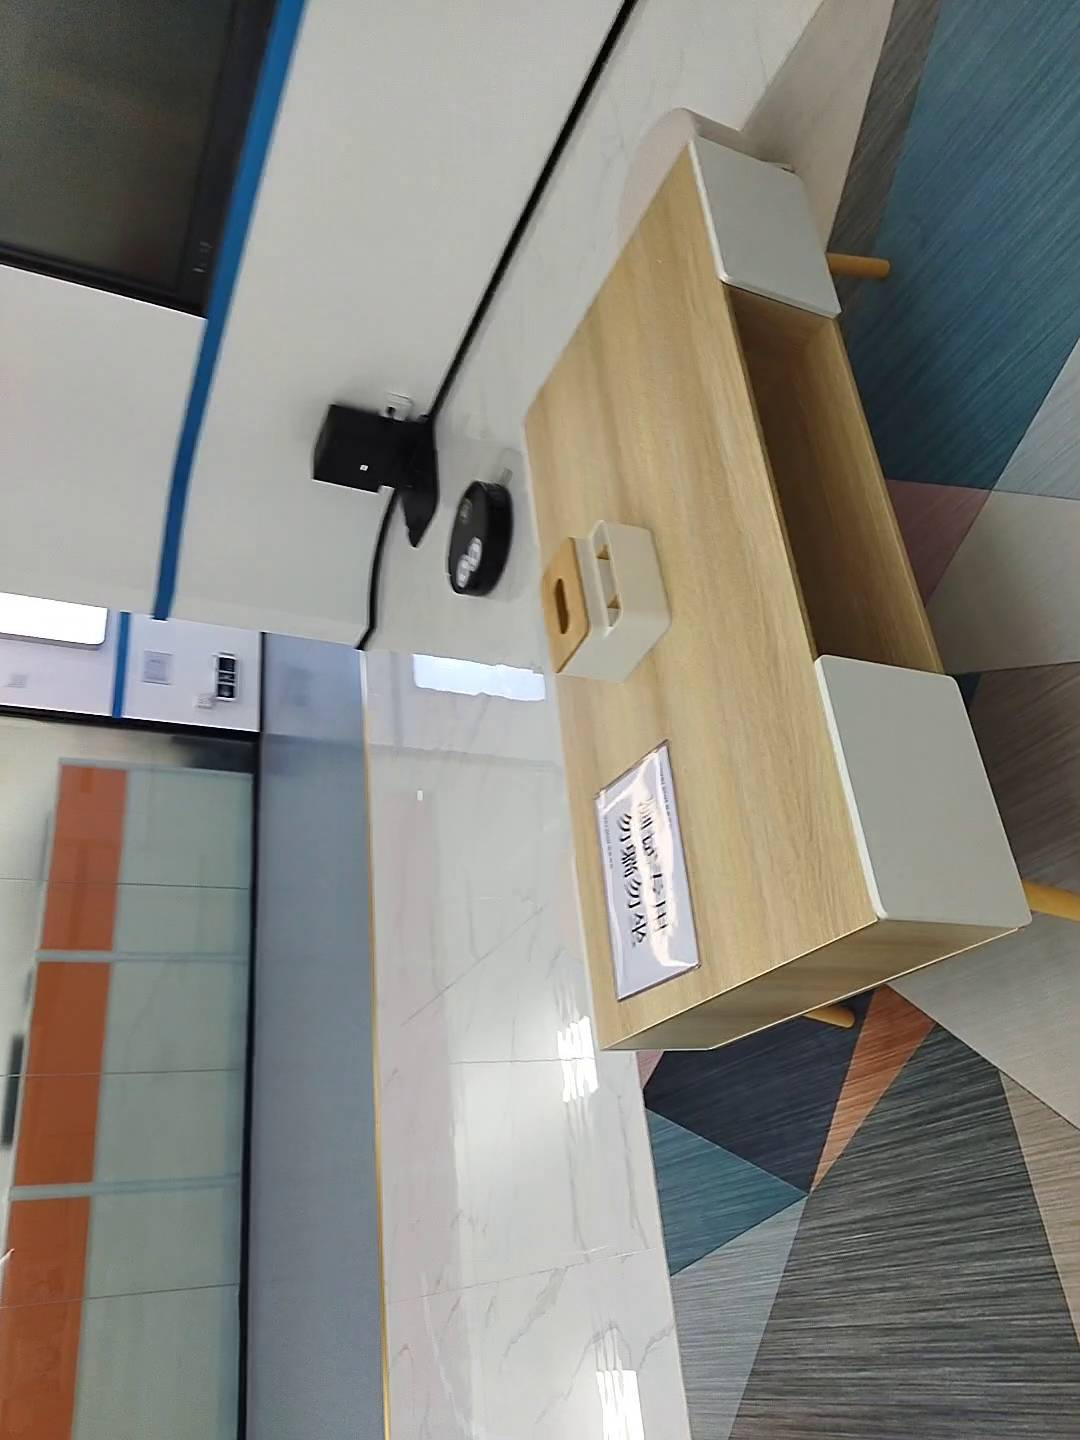dust collecting barrel: (311, 403, 439, 550)
